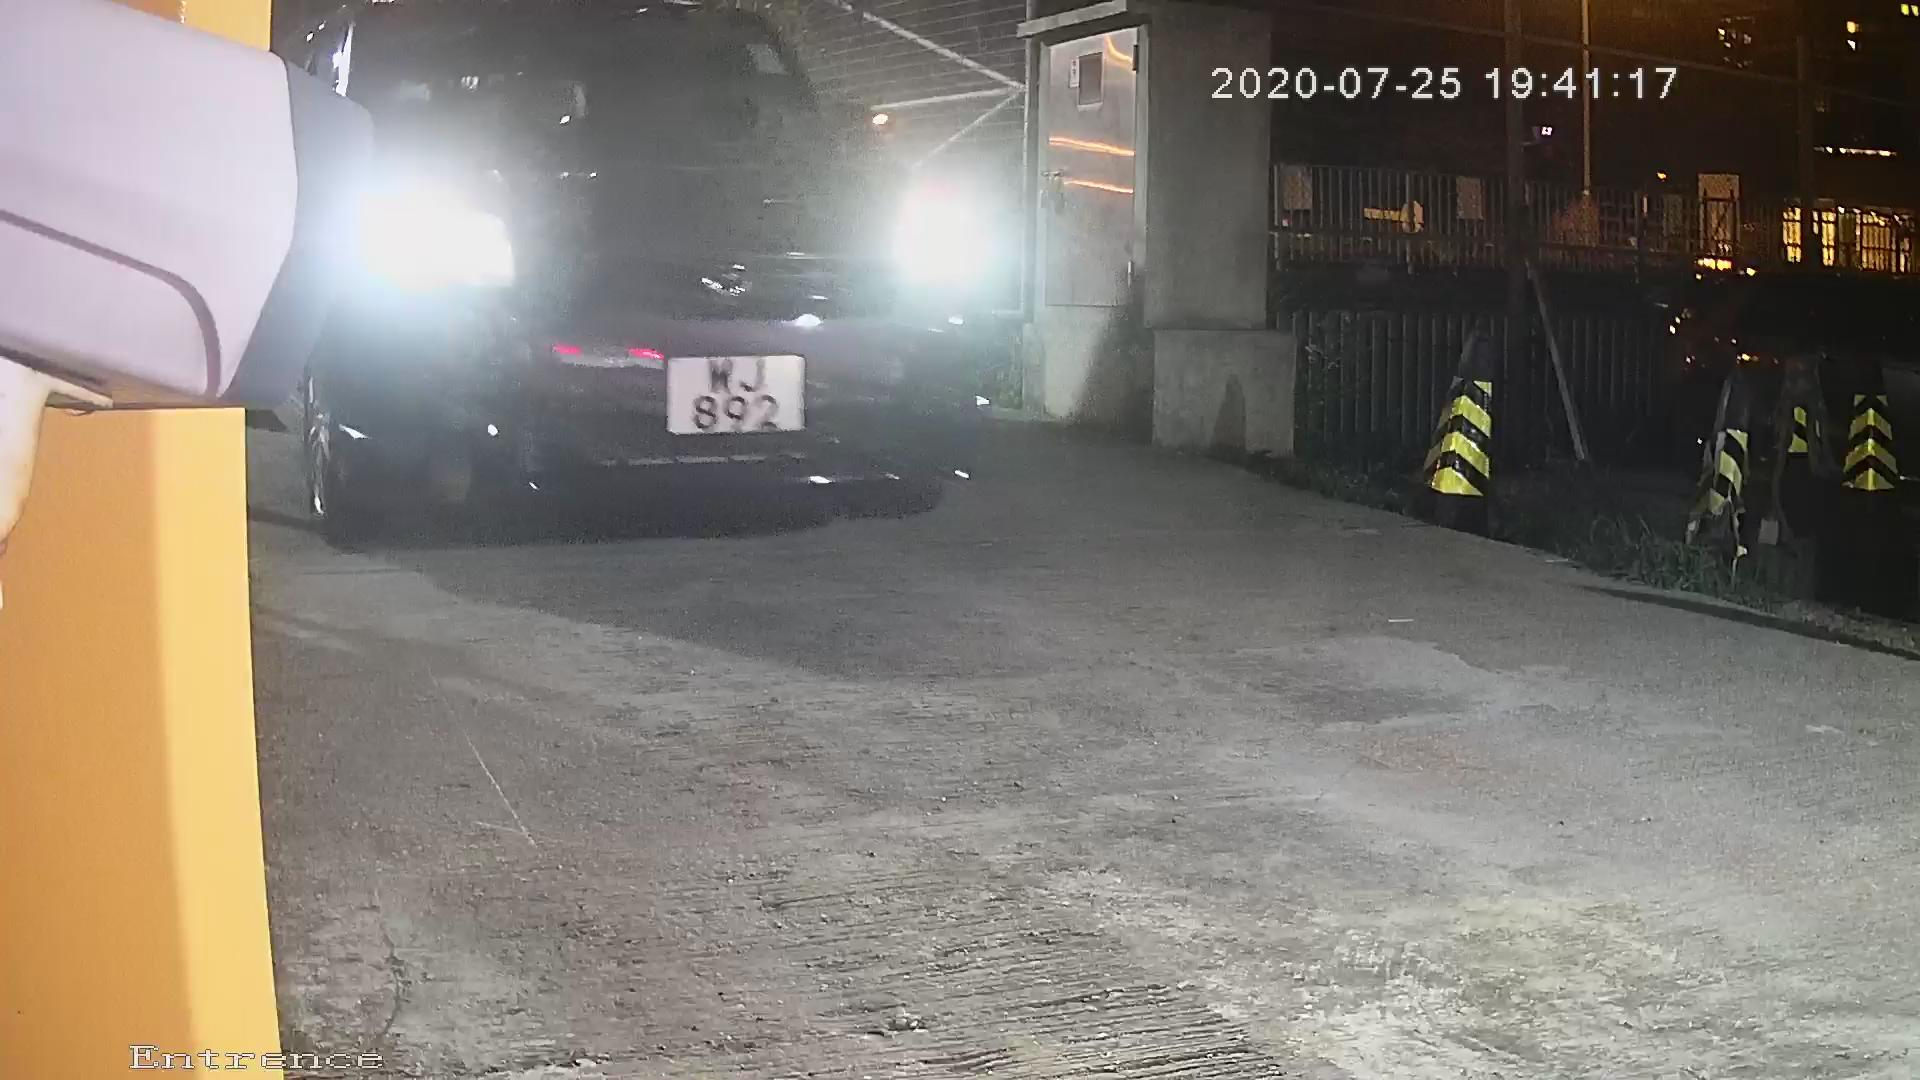Car: (95, 1, 1261, 637)
License Plate: (635, 338, 806, 449)
